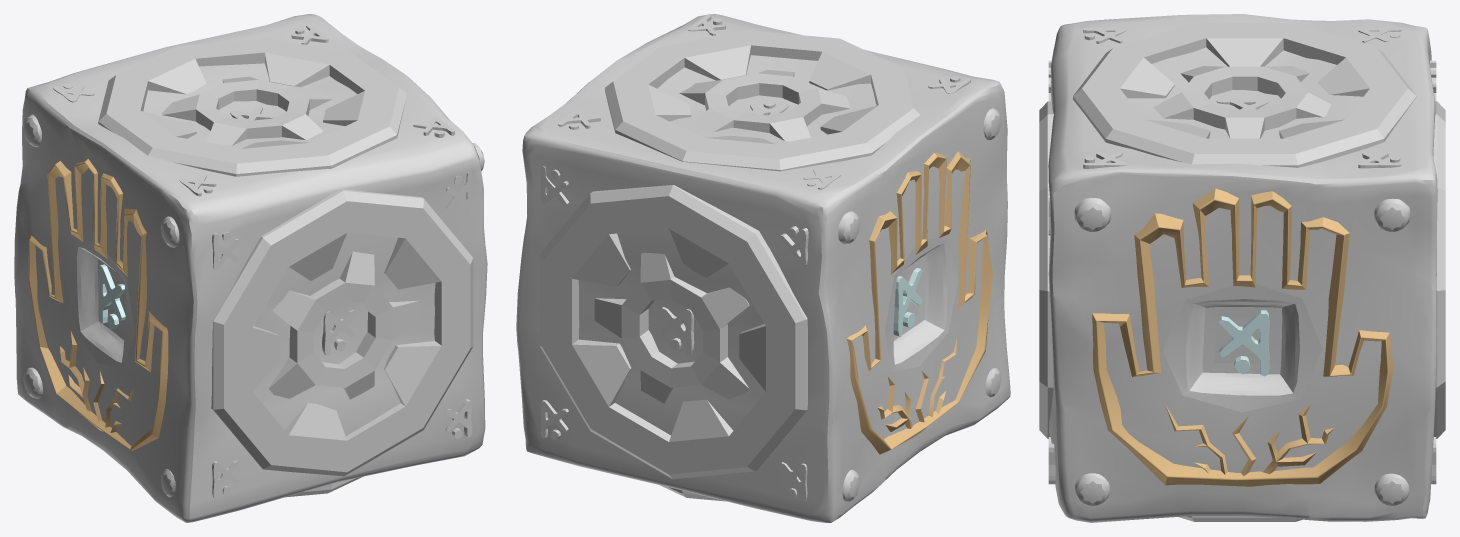
File: wallmodule_b.fbx
The picture shows the model from 3 angles, left to right: view 1: azimuth 30°, elevation 25°; view 2: azimuth 150°, elevation 25°; view 3: azimuth 270°, elevation 25°; orthographic projection. The views are drawn at different scales.
Parts seen in each view (by area): view 1: modularwall, connect, hand, rune.002, round, lightning.002, rune.001, rune; view 2: modularwall, connect, hand, rune.002, round, lightning.002, rune.001, rune; view 3: modularwall, connect, hand, round, rune.002, lightning.002, rune.
Boxes of the visible parts, bbox=[...] form: modularwall: bbox=[14, 14, 487, 522]; connect: bbox=[98, 38, 473, 497]; hand: bbox=[28, 159, 168, 450]; rune.002: bbox=[53, 24, 472, 498]; round: bbox=[23, 114, 484, 497]; lightning.002: bbox=[60, 331, 133, 432]; rune.001: bbox=[230, 106, 355, 355]; rune: bbox=[98, 264, 125, 328]; modularwall: bbox=[516, 14, 1010, 522]; connect: bbox=[539, 30, 920, 501]; hand: bbox=[846, 151, 992, 454]; rune.002: bbox=[540, 15, 970, 501]; round: bbox=[838, 108, 1001, 501]; lightning.002: bbox=[878, 338, 956, 431]; rune.001: bbox=[660, 101, 788, 355]; rune: bbox=[893, 268, 922, 336]; modularwall: bbox=[1048, 14, 1437, 522]; connect: bbox=[1039, 23, 1445, 521]; hand: bbox=[1092, 188, 1393, 486]; round: bbox=[1074, 198, 1410, 505]; rune.002: bbox=[1048, 28, 1436, 484]; lightning.002: bbox=[1165, 404, 1333, 476]; rune: bbox=[1218, 310, 1269, 376].
Bounding box in the file's own units: 315 × 313 × 313.
